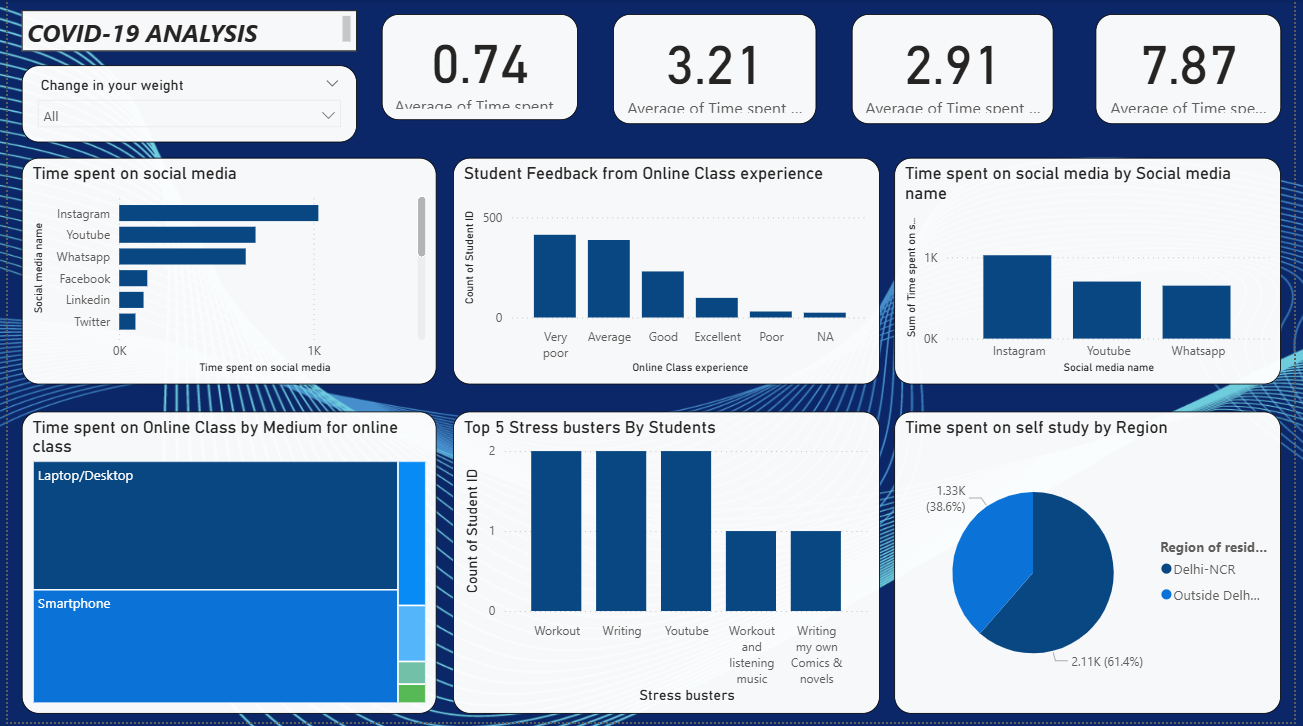

What the dashboard file says about the page in this screenshot:
{"tool":"powerbi","page":{"name":"COVID-19 ANALYSIS","canvas":[1280,720],"ordinal":1},"visuals":[{"type":"textbox","box":[14,11.6,333.7,40.7],"z":0},{"type":"slicer","fields":{"Values":["Impact_of_C19_on_Students.Change in your weight"]},"box":[14,66.3,333.7,76.7],"z":1000},{"type":"barChart","title":" Time spent on social media ","fields":{"Category":["Impact_of_C19_on_Students.Social media name"],"Y":["Impact_of_C19_on_Students.Time spent on social media"]},"box":[14,158.1,412.8,225.6],"z":2000},{"type":"columnChart","title":"Student Feedback from Online Class experience","fields":{"Y":["Impact_of_C19_on_Students.Student ID"],"Category":["Impact_of_C19_on_Students.Online Class experience"]},"box":[443,158.1,424.4,225.6],"z":3000},{"type":"treemap","title":"Time spent on Online Class by Medium for online class","fields":{"Values":["Impact_of_C19_on_Students.Time spent on Online Class"],"Group":["Impact_of_C19_on_Students.Medium for online class"]},"box":[14,410.5,412.8,301.2],"z":4000},{"type":"pieChart","title":"Time spent on self study by Region ","fields":{"Y":["Impact_of_C19_on_Students.Time spent on self study"],"Category":["Impact_of_C19_on_Students.Region of residence"]},"box":[882.6,410.5,384.9,301.2],"z":5000},{"type":"columnChart","title":"Top 5 Stress busters By Students","fields":{"Category":["Impact_of_C19_on_Students.Stress busters"],"Y":["Impact_of_C19_on_Students.Student ID"]},"box":[443,410.5,424.4,301.2],"z":6000},{"type":"columnChart","title":"Time spent on social media by Social media name","fields":{"Category":["Impact_of_C19_on_Students.Social media name"],"Y":["Impact_of_C19_on_Students.Time spent on social media"]},"box":[882.6,158.1,384.9,225.6],"z":7000},{"type":"card","fields":{"Values":["Impact_of_C19_on_Students.Time spent on fitness"]},"box":[372.1,15.1,195.3,105.8],"z":8000},{"type":"card","fields":{"Values":["Impact_of_C19_on_Students.Time spent on Online Class"]},"box":[602.3,15.1,202.3,109.3],"z":9000},{"type":"card","fields":{"Values":["Impact_of_C19_on_Students.Time spent on self study"]},"box":[839.5,15.1,201.2,109.3],"z":10000},{"type":"card","fields":{"Values":["Impact_of_C19_on_Students.Time spent on sleep"]},"box":[1082.6,15.1,184.9,109.3],"z":11000}]}

Visuals, with their boxes in screenshot pixels (x1, y1, x2, y2), scaled from the page's 1280x720 canvas onto the 1303x726 screenshot:
textbox: (x1=14, y1=12, x2=354, y2=53)
slicer - Impact_of_C19_on_Students.Change in your weight: (x1=14, y1=67, x2=354, y2=144)
" Time spent on social media " barChart: (x1=14, y1=159, x2=434, y2=387)
"Student Feedback from Online Class experience" columnChart: (x1=451, y1=159, x2=883, y2=387)
"Time spent on Online Class by Medium for online class" treemap: (x1=14, y1=414, x2=434, y2=718)
"Time spent on self study by Region " pieChart: (x1=898, y1=414, x2=1290, y2=718)
"Top 5 Stress busters By Students" columnChart: (x1=451, y1=414, x2=883, y2=718)
"Time spent on social media by Social media name" columnChart: (x1=898, y1=159, x2=1290, y2=387)
card - Impact_of_C19_on_Students.Time spent on fitness: (x1=379, y1=15, x2=578, y2=122)
card - Impact_of_C19_on_Students.Time spent on Online Class: (x1=613, y1=15, x2=819, y2=125)
card - Impact_of_C19_on_Students.Time spent on self study: (x1=855, y1=15, x2=1059, y2=125)
card - Impact_of_C19_on_Students.Time spent on sleep: (x1=1102, y1=15, x2=1290, y2=125)
